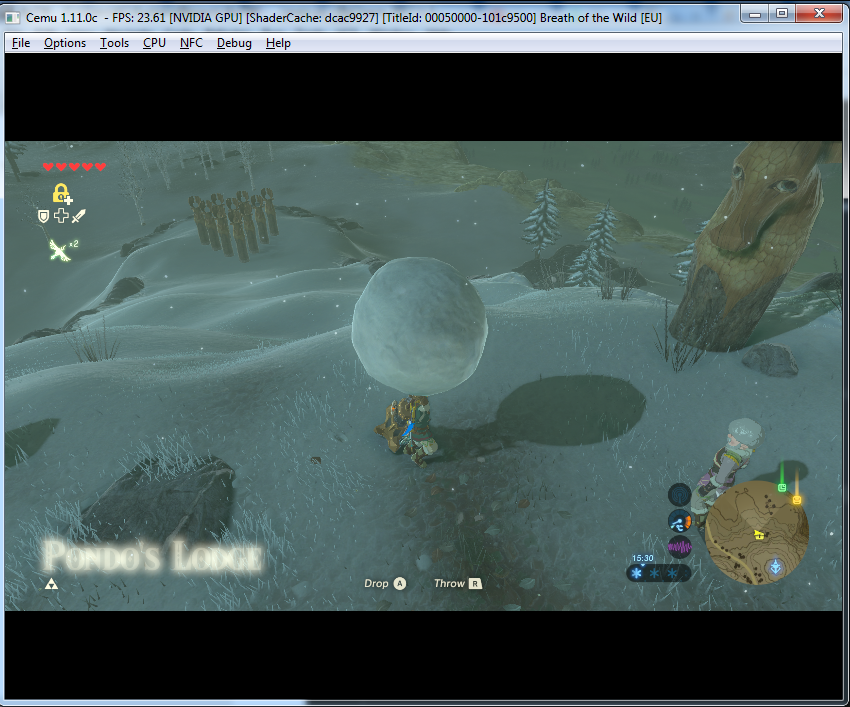dude: (682, 407, 777, 484)
link: (370, 388, 455, 477)
snowball: (350, 255, 492, 396)
totem: (685, 137, 834, 364)
